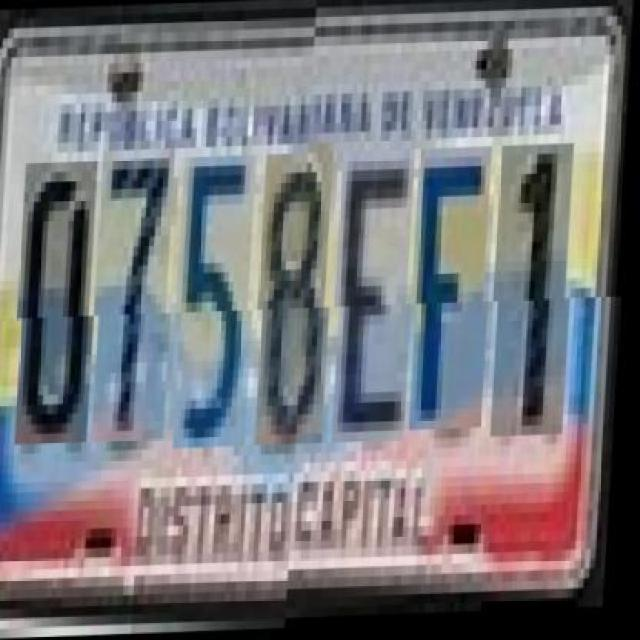0: (21, 162, 105, 446)
1: (495, 158, 580, 450)
5: (179, 158, 263, 450)
7: (97, 149, 181, 443)
8: (261, 154, 341, 448)
e: (337, 162, 421, 456)
f: (414, 160, 498, 443)
